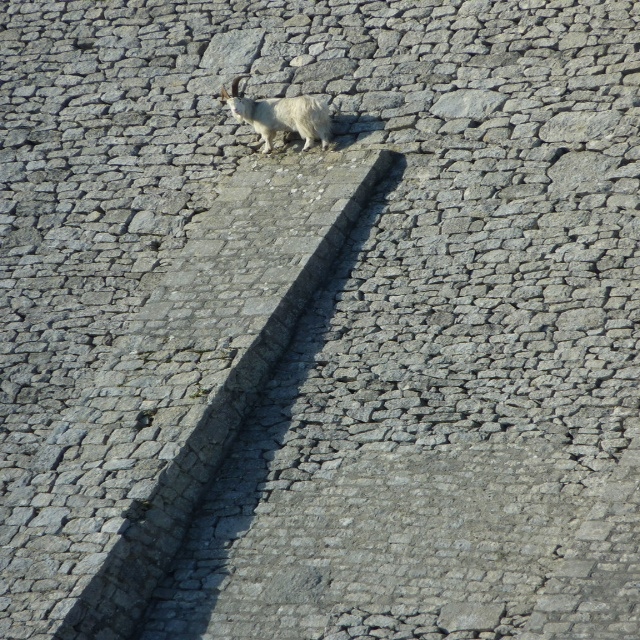Goat: (216, 78, 335, 148)
